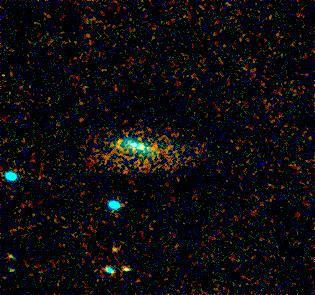star: (100, 233, 130, 263)
